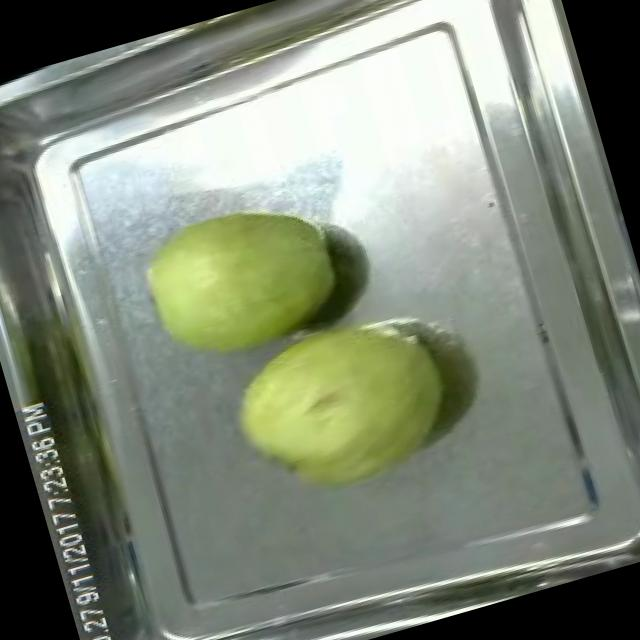Fruit: (208, 288, 474, 523), (118, 178, 358, 384)
